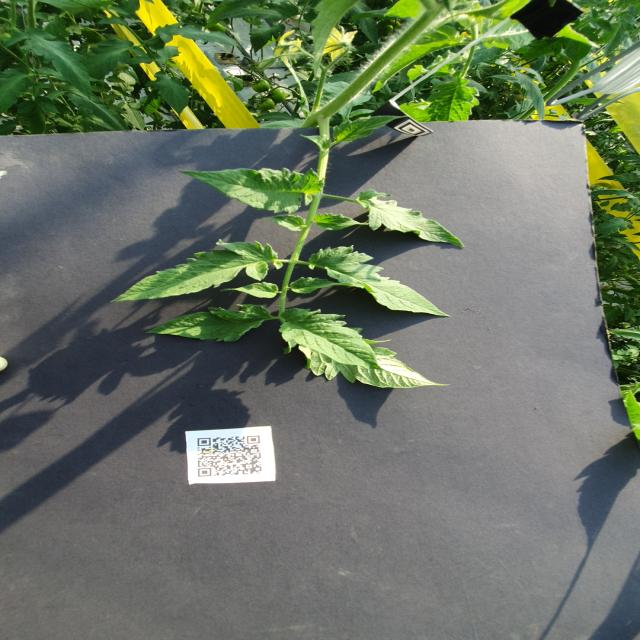Healthy Leaf: (110, 238, 284, 304), (306, 245, 452, 318), (310, 339, 451, 388), (180, 167, 324, 214), (358, 188, 464, 249), (6, 28, 92, 100), (278, 308, 378, 366), (147, 304, 272, 342), (426, 77, 480, 121), (155, 22, 242, 48), (332, 115, 408, 143), (84, 38, 131, 79), (15, 96, 61, 134), (154, 70, 190, 117), (248, 24, 286, 53), (314, 213, 369, 230), (222, 282, 279, 298), (292, 276, 336, 294), (262, 215, 306, 231)
